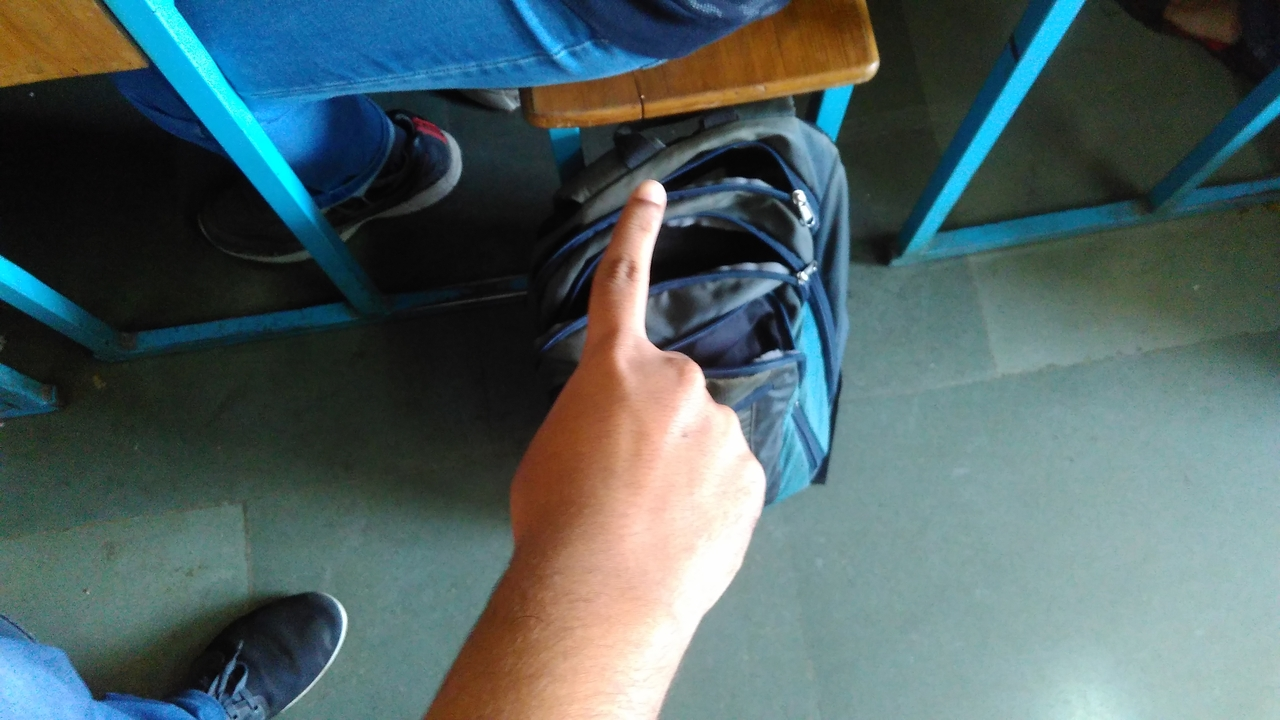fingertip: (618, 172, 672, 228)
